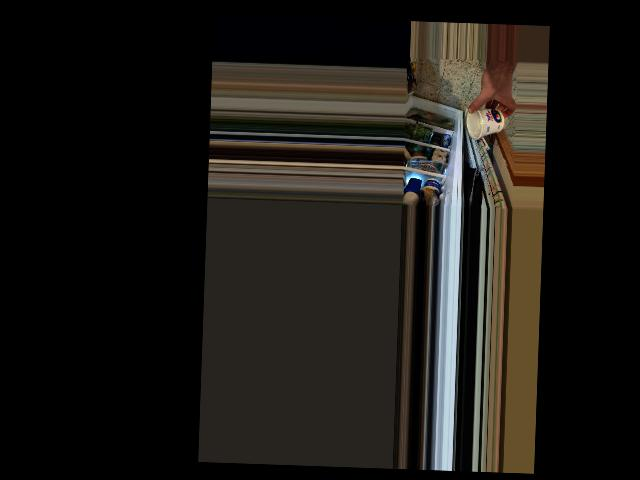cotage: (466, 104, 506, 139)
